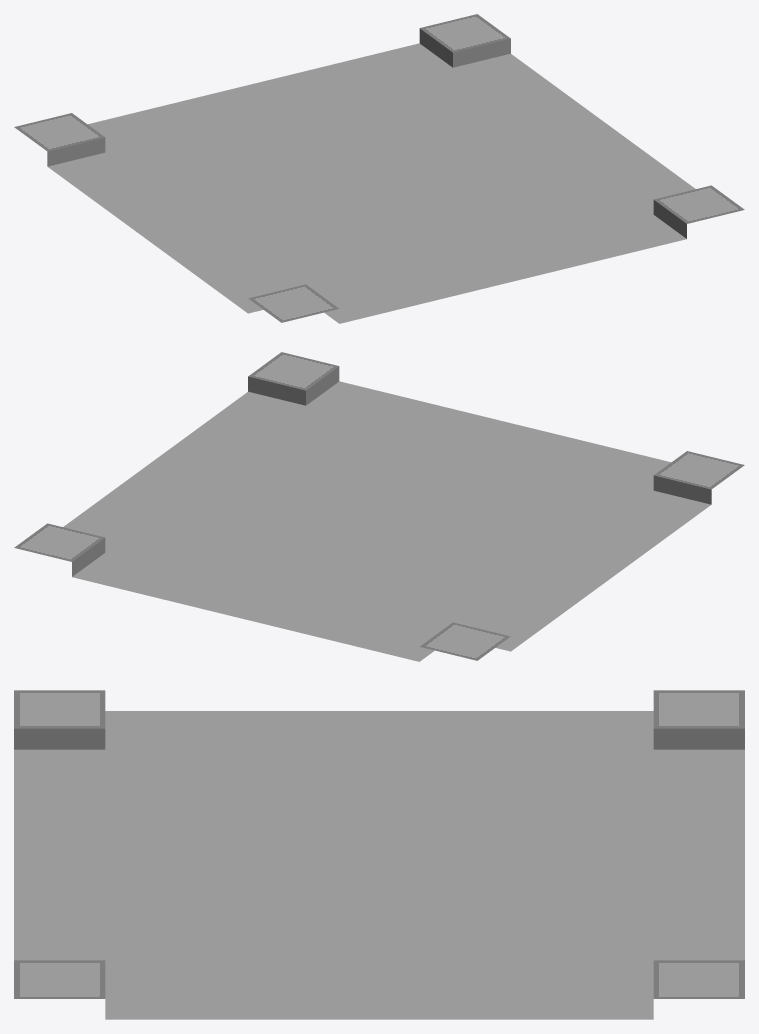
The model's file is Four_Way Intersection.gltf.
3 renders of one model, top to bottom at view 1: azimuth 30°, elevation 25°; view 2: azimuth 150°, elevation 25°; view 3: azimuth 270°, elevation 25°, orthographic. The views are drawn at different scales.
Parts seen in each view (by area): view 1: Four Way Intersection; view 2: Four Way Intersection; view 3: Four Way Intersection.
Part boxes in pixels (x1,y1,x2,y2): Four Way Intersection: [14, 14, 744, 323]; Four Way Intersection: [14, 352, 744, 661]; Four Way Intersection: [14, 690, 744, 1019].
Bounding box in the file's own units: 8 × 0.25 × 8.
Materials: 1 (1 with a texture image).
